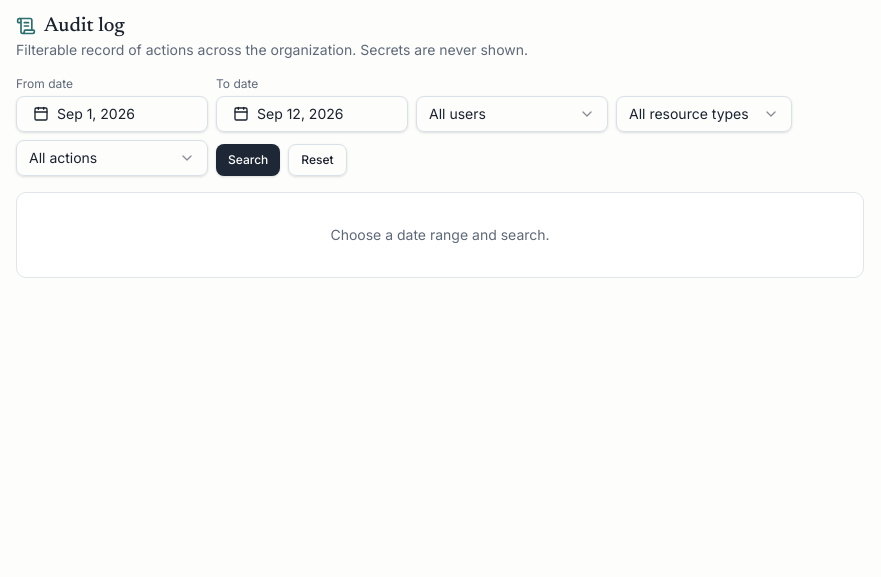
AdminAudit › lists events after Search, expands detail, and never renders secrets, ip, or userAgent
Click the button "Search": (248, 160) [216,144,280,176]
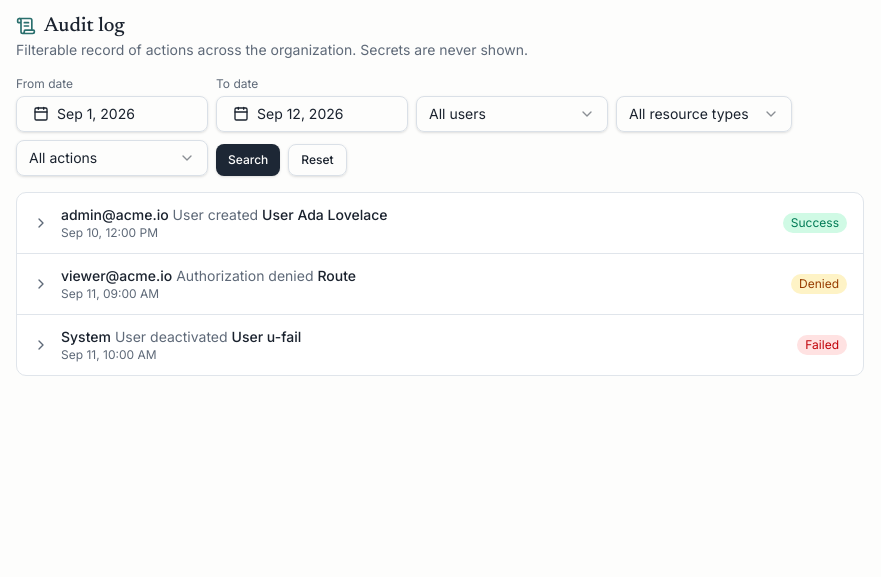
expect the text "admin@acme.io" is shown: met
expect the text "User created" is shown: met, box [173,206,258,223]
expect the text "User Ada Lovelace" is shown: met, box [262,206,387,223]
Click the text "admin@acme.io": (115, 214) [61,206,169,223]
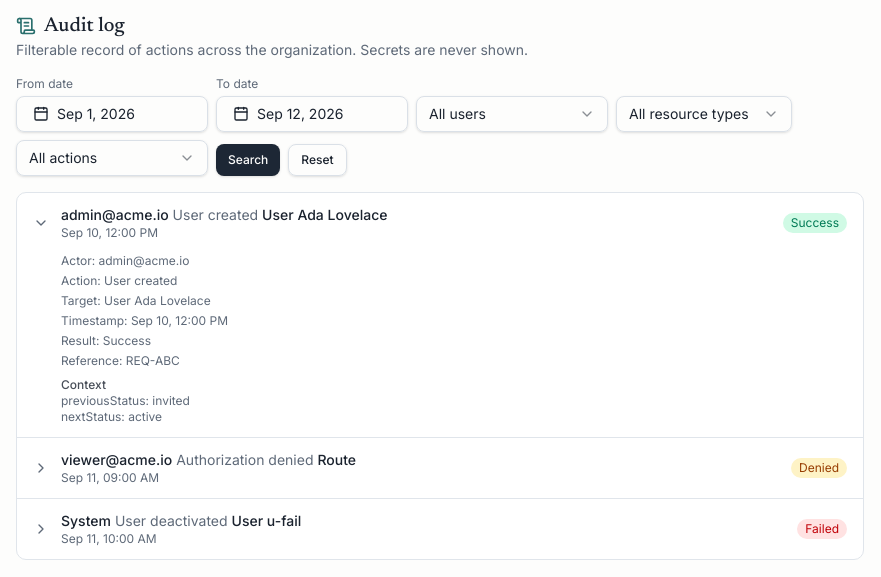
expect the text "Reference: REQ-ABC" is shown: met, box [61,353,180,368]
expect the text "previousStatus: invited" is shown: met, box [61,393,190,408]
expect the text "nextStatus: active" is shown: met, box [61,409,162,424]
